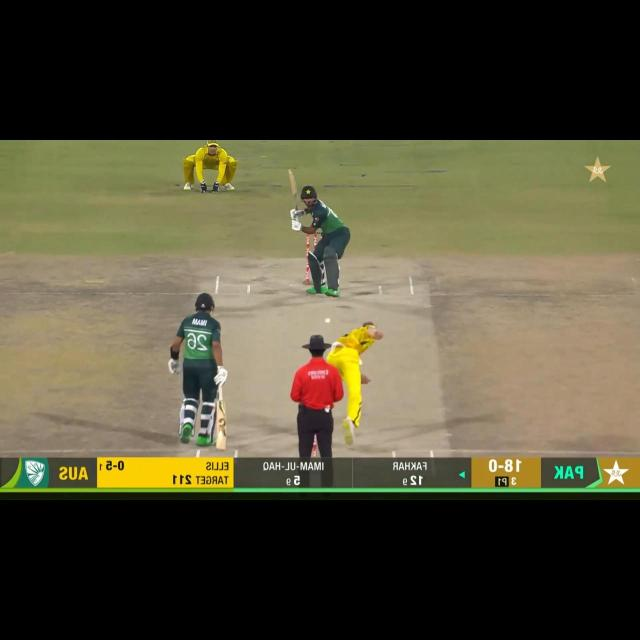bat: (285, 166, 300, 208), (216, 400, 226, 452)
toe: (286, 169, 296, 179), (217, 442, 226, 451)
